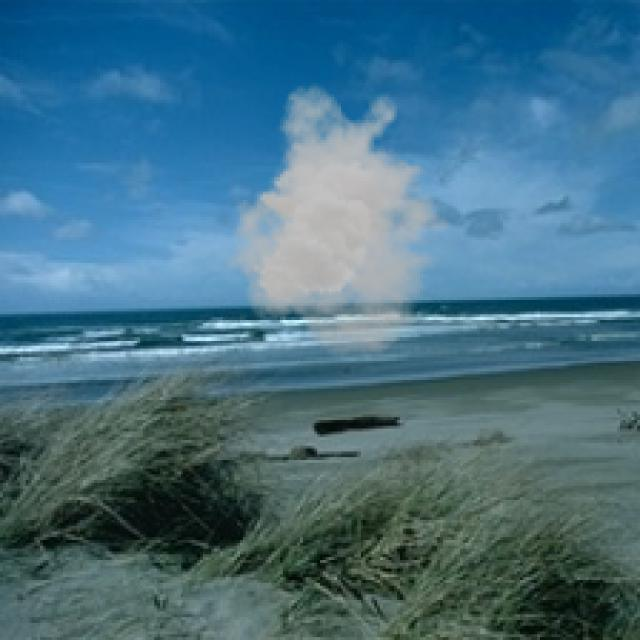smoke: (226, 83, 463, 357)
